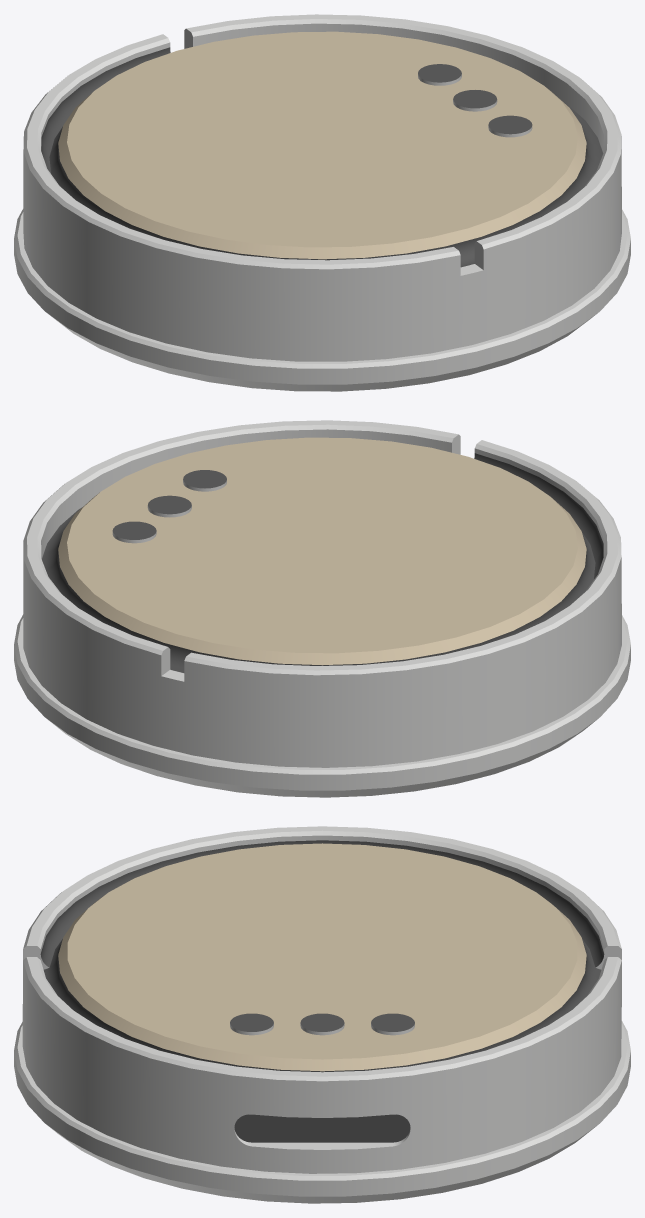
File: own_vacuumYZ.dae
3 views of the same model, one above another, from view 1: azimuth 30°, elevation 25°; view 2: azimuth 150°, elevation 25°; view 3: azimuth 270°, elevation 25° (orthographic).
Parts seen in each view (by area): view 1: own_vacuum; view 2: own_vacuum; view 3: own_vacuum.
Part boxes in pixels (x1=…): own_vacuum: x1=14, y1=14, x2=630, y2=391; own_vacuum: x1=14, y1=420, x2=630, y2=797; own_vacuum: x1=14, y1=826, x2=630, y2=1203.
Bounding box in the file's own units: 34.9 × 35 × 12.7.
